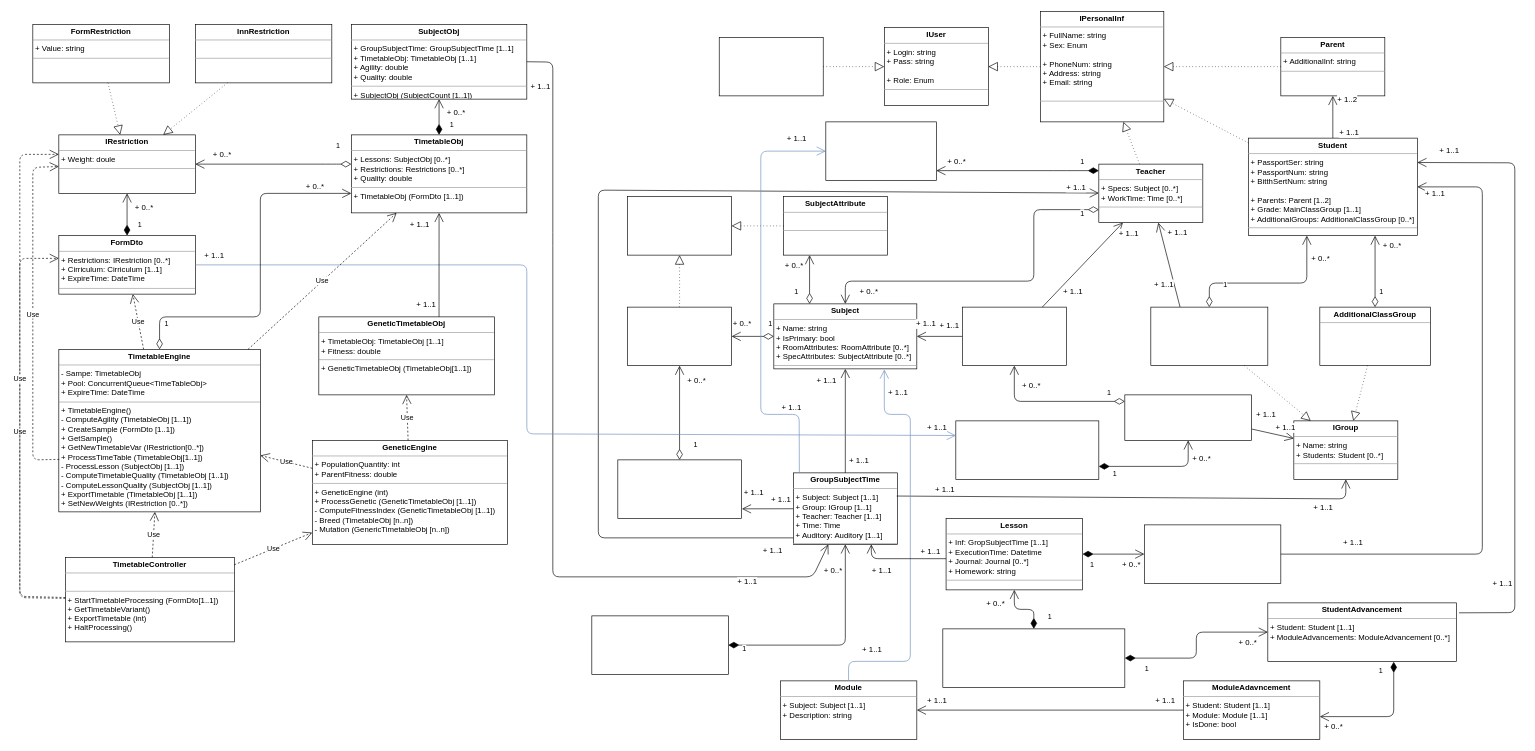
Some shapes in this 1535 by 751 pixel diagram are drawn without their labels. Here are the shapes that lost their labels. From the top down, the centre of each, then its label:
point (771, 66): Admin + Duties: Enum
point (880, 150): Time + DayNum: int + SubjNum: int
point (679, 225): IAttribute + Name: string
point (679, 336): RoomAttribute
point (1014, 336): SubjectCount + Subject: Subject [1..1] + Count: int + Teacher: Teacher[1..1]
point (1209, 336): MainClassGroup + ClassTeacher: Teacher [1..1] + Grade: int
point (1188, 417): СurriculumRec + Group: IGroup [1..1] + SubjectPlan: SubjectCount: [0..*]
point (1027, 449): Сurriculum + CurriculumRecs: CurriculumRec [0..*] + Year: int
point (679, 488): Auditory + Number: string + Attributes: RoomAttribute [0..*]
point (1212, 553): Journal + Student: Student [1..1] + Attendance: Enum
point (659, 644): Timetable + Practices: GropSubjectTime [0..*]
point (1033, 657): Diary + Lessons: Lesson [0..*] + StudentAdvacements: StudentAdvancement [0..*]
